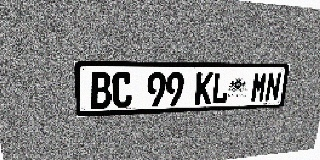9: (165, 72, 185, 106), (147, 72, 166, 107)
B: (90, 72, 112, 109)
C: (112, 72, 132, 108)
K: (195, 72, 213, 105)
L: (211, 72, 230, 104)
M: (250, 72, 268, 102)
N: (264, 72, 282, 102)
